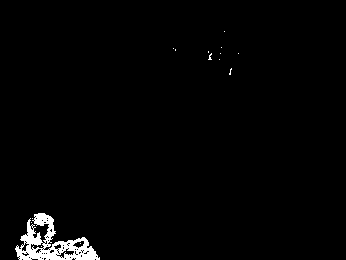person: (17, 211, 59, 260)
